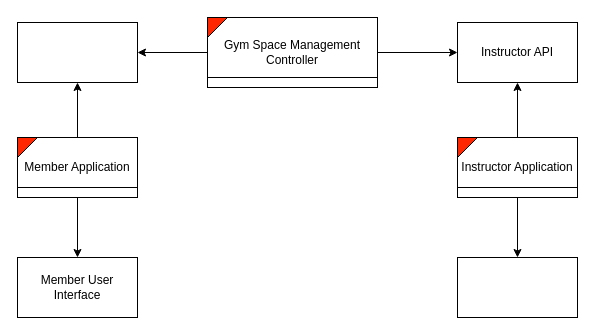
The diagram is 596 pixels wide and 335 high, and some of its shapes have lost their labels. The shapes that lost their labels are listed below. From the top down, each one's centre as x and y in pixels, then its label:
At point (77, 52): "Member API".
At point (517, 287): "Instructor User Interface".
